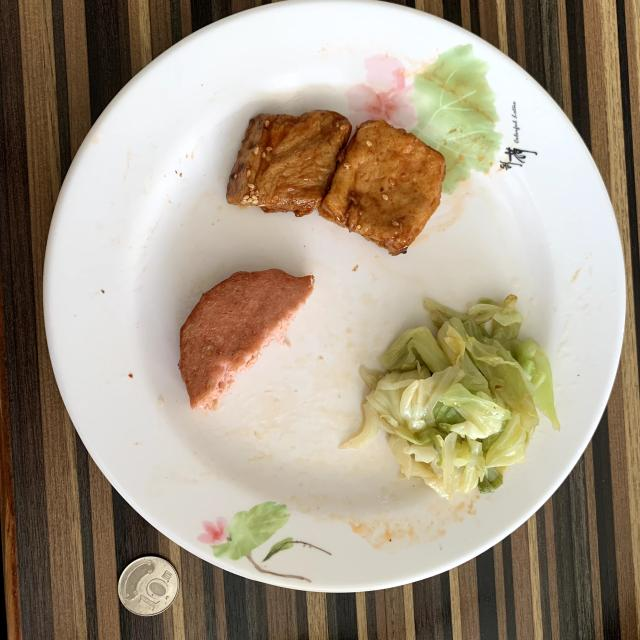Spam: (179, 269, 314, 410)
cabbage: (341, 295, 559, 499)
coin: (118, 556, 179, 616)
creamy tofu: (226, 110, 445, 255)
